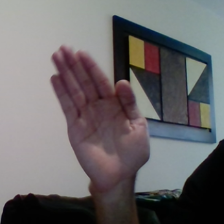left: (36, 33, 162, 187)
